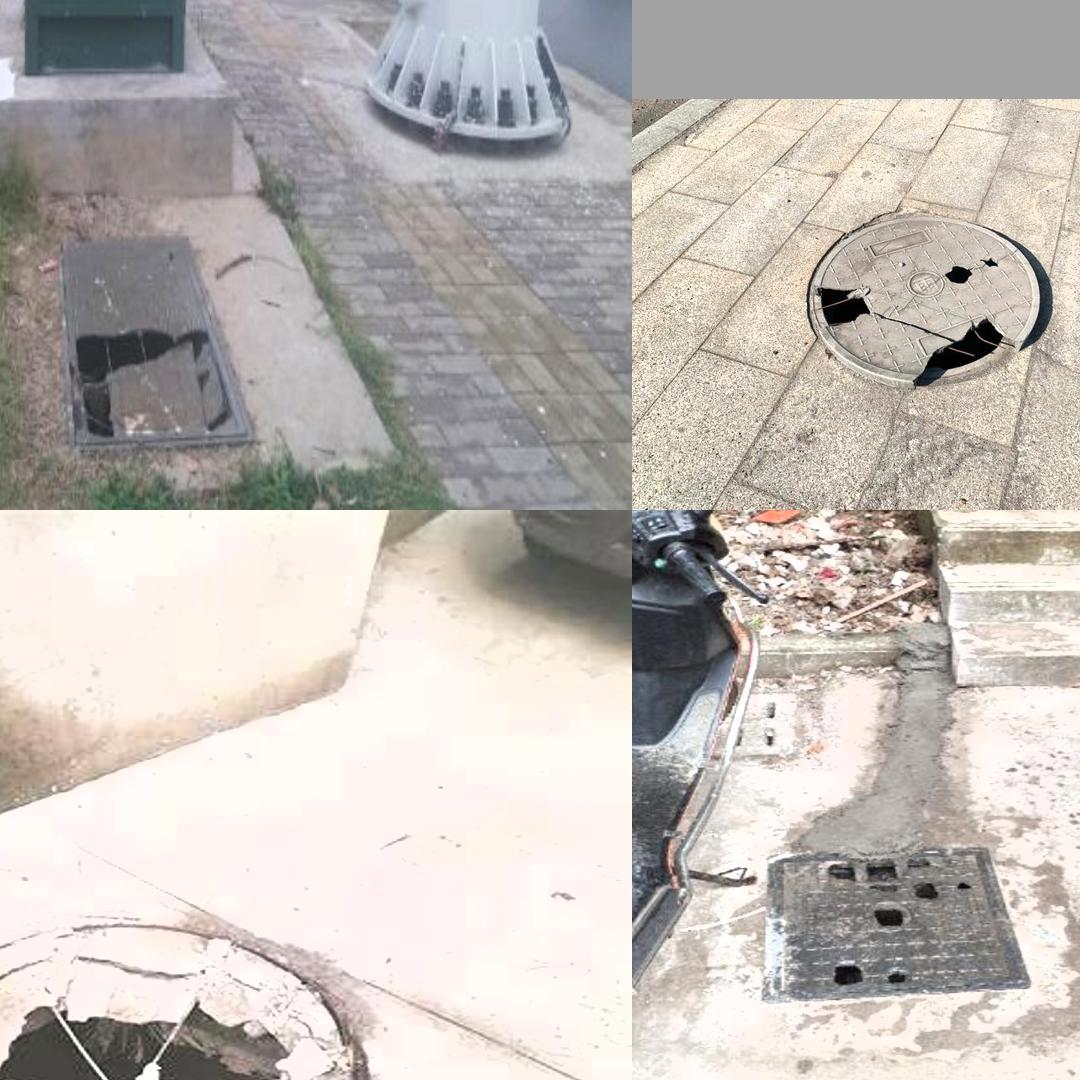broke: (0, 903, 440, 1080), (796, 199, 1060, 392), (57, 228, 258, 456), (757, 845, 1031, 1008)
